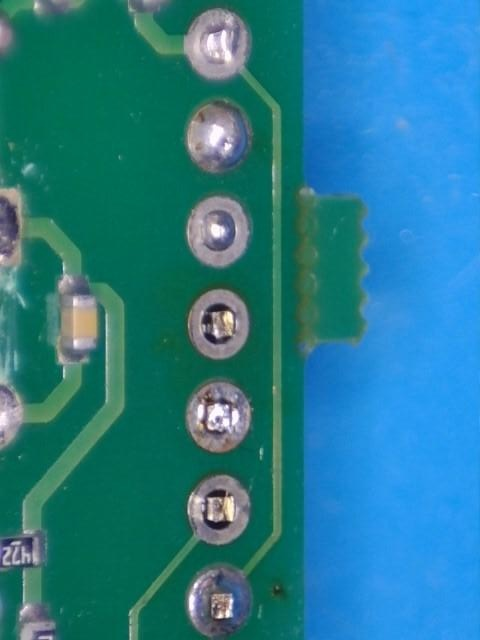pcb_defect: (188, 380, 251, 451), (187, 193, 249, 265), (188, 101, 250, 172)
